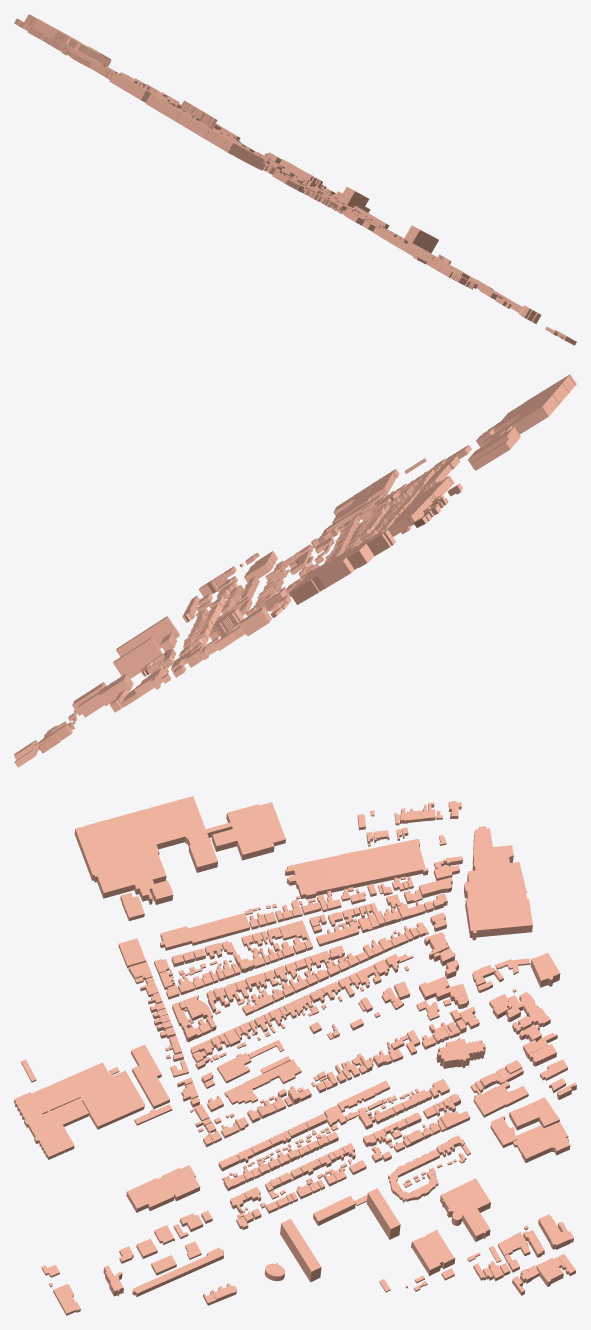
3 views of the same model, one above another, from view 1: azimuth 30°, elevation 25°; view 2: azimuth 150°, elevation 25°; view 3: azimuth 270°, elevation 25° (orthographic). The views are drawn at different scales.
Size of the model in its own units: 532 by 396 by 622.
